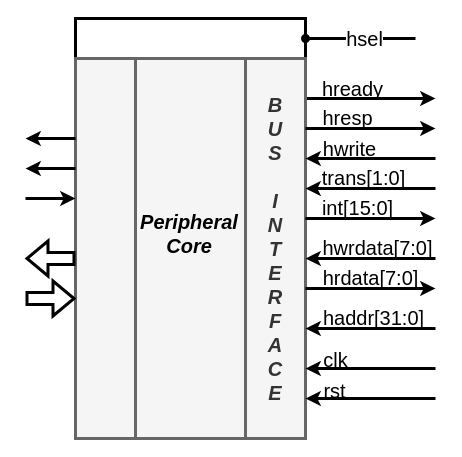
Image size: 462x457. Some labels were removed from this diagram. Here are the shapes that lost their labels. From the top down, the centre of each, then its label:
At point (190, 38): "MC2101 Bus Slave".
At point (105, 248): "E X T. I N T E R F A C E".
